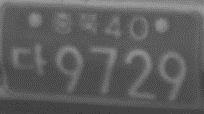0: (129, 15, 149, 40)
2: (123, 48, 154, 100)
4: (105, 15, 122, 40)
7: (87, 47, 119, 94)
9: (54, 45, 85, 93), (158, 52, 186, 100)
다: (10, 43, 48, 75)
충북_O: (52, 10, 102, 37)
